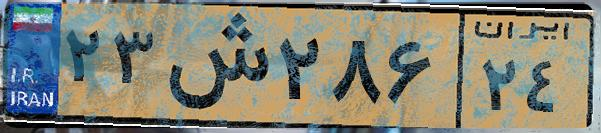2: (270, 28, 330, 110), (57, 26, 110, 100), (475, 38, 525, 113)
3: (110, 28, 158, 98)
4: (525, 38, 570, 115)
6: (385, 28, 445, 110)
8: (330, 28, 385, 110)
ش: (158, 12, 270, 120)
